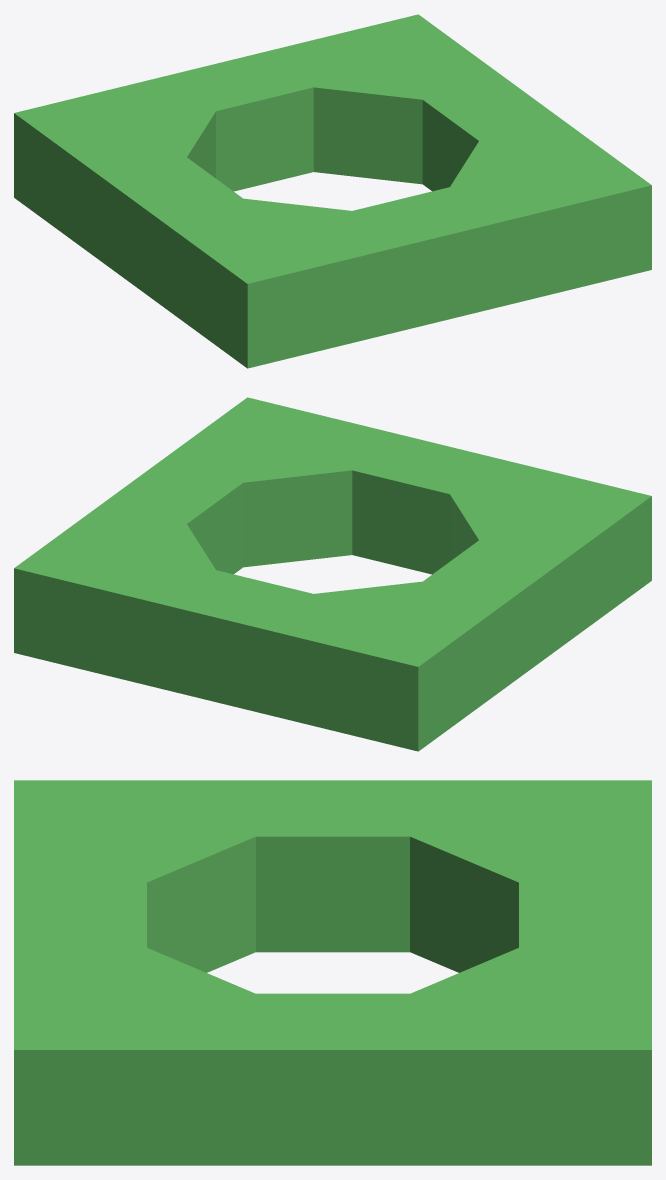
The model's file is Prop_Well_Grass.glb.
3 views of the same model, one above another, from view 1: azimuth 30°, elevation 25°; view 2: azimuth 150°, elevation 25°; view 3: azimuth 270°, elevation 25° (orthographic). The views are drawn at different scales.
Visible parts, largest first — view 1: object1; view 2: object1; view 3: object1.
Boxes of the visible parts, x1,y1,x2,y2 form: object1: [14, 14, 651, 368]; object1: [14, 397, 651, 751]; object1: [14, 780, 651, 1165].
Bounding box in the file's own units: 1 × 0.2 × 1.
